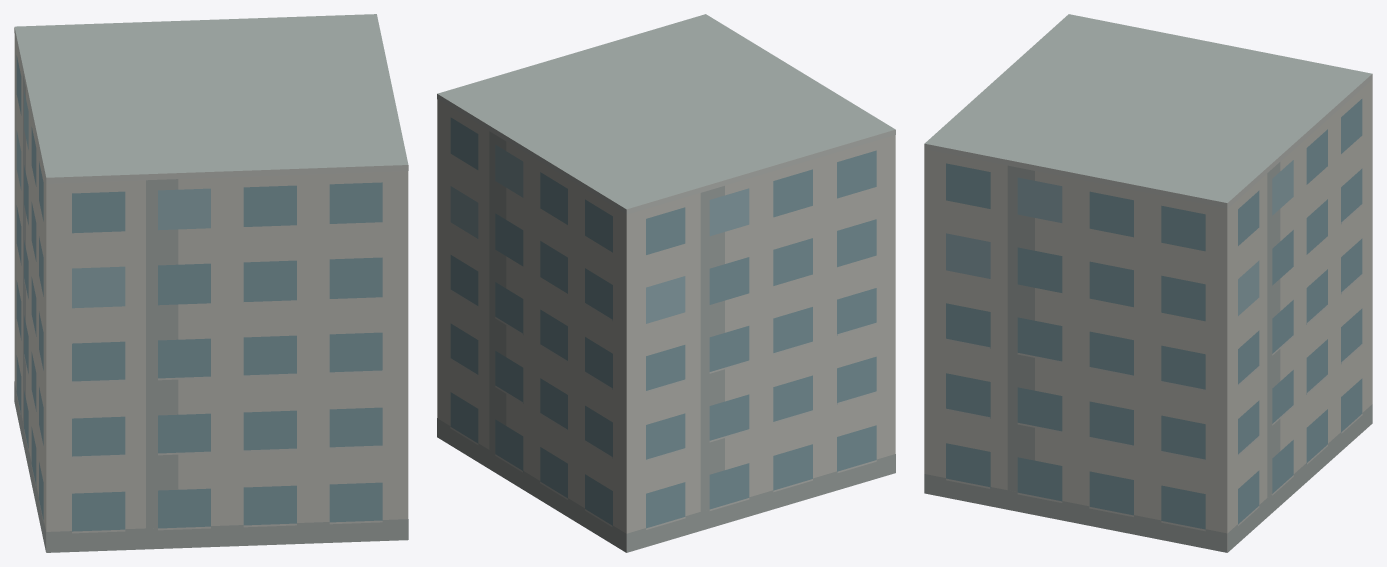
The model's file is survey-upis-32478306.glb.
3 views of the same model, side by side, from view 1: azimuth 30°, elevation 25°; view 2: azimuth 150°, elevation 25°; view 3: azimuth 270°, elevation 25° (orthographic). The views are drawn at different scales.
Parts seen in each view (by area): view 1: survey-upis-32478306.tmp; view 2: survey-upis-32478306.tmp; view 3: survey-upis-32478306.tmp.
Boxes of the visible parts, bbox=[...] form: survey-upis-32478306.tmp: bbox=[14, 14, 408, 552]; survey-upis-32478306.tmp: bbox=[437, 14, 895, 552]; survey-upis-32478306.tmp: bbox=[924, 14, 1372, 552].
Size of the model in its own units: 17.7 by 15.25 by 17.72.
